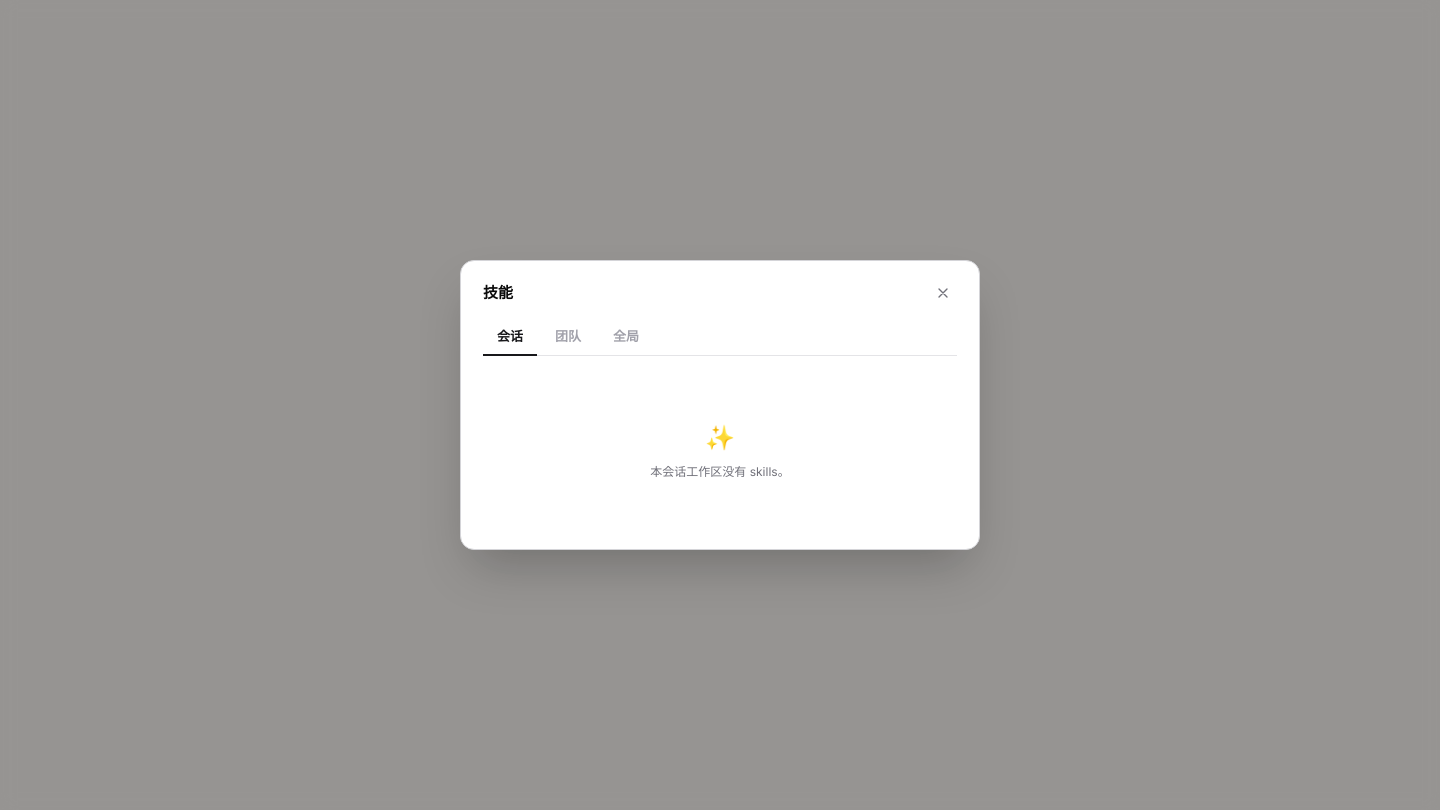
Test: ComponentSkillsModal — 3 tab 结构 › 切到 group tab（有数据）→ 渲染 group 组卡片（徽标 团队）
The width and height of the screenshot is (1440, 810).
What coordinates should you click on to do the following:
click the tab "团队"
I would click on:
 (568, 336)
Its box is x1=555 y1=328 x2=581 y2=344.
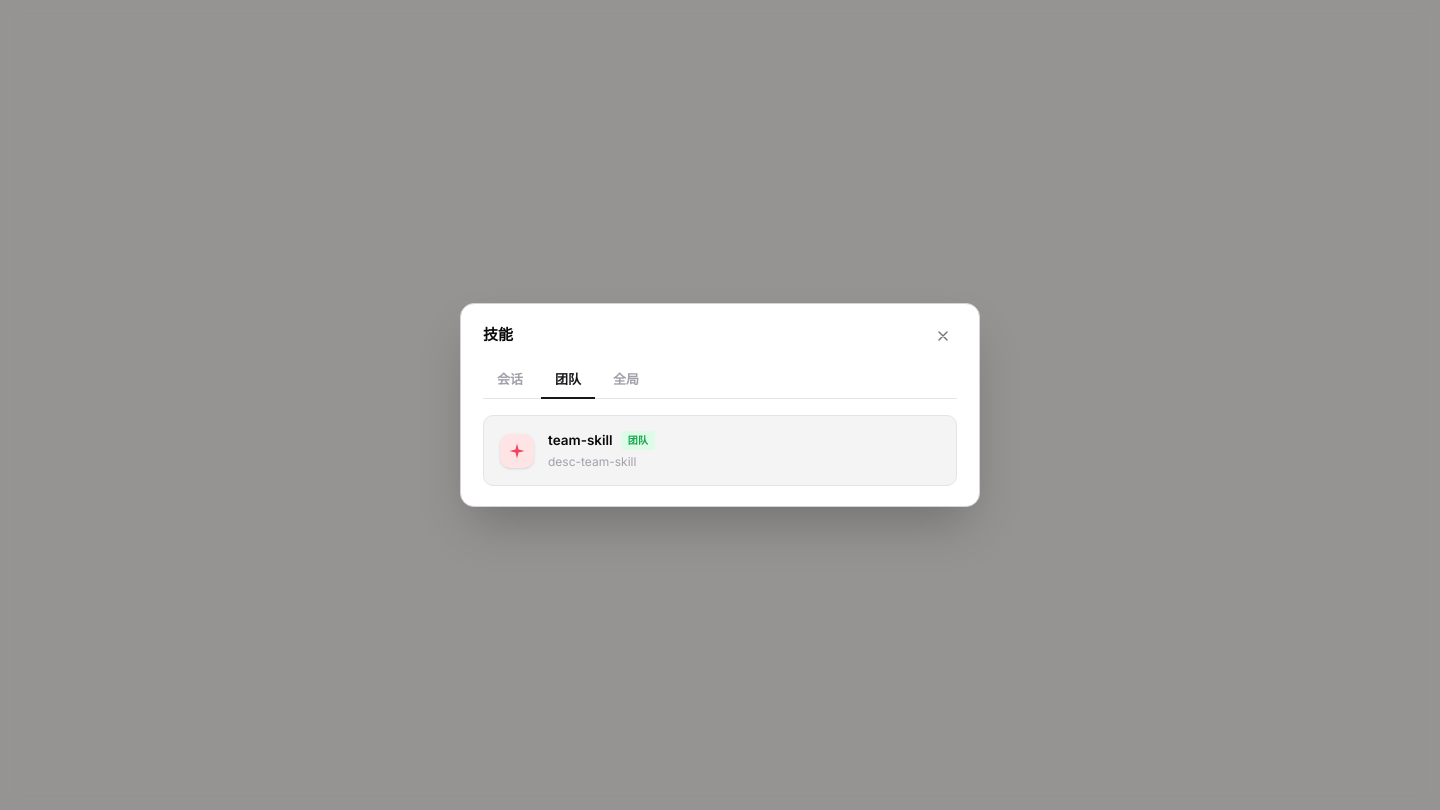
Check: the text "team-skill" is shown, box x1=548 y1=430 x2=613 y2=450
Check: the text "团队" is shown, box x1=621 y1=431 x2=655 y2=450
